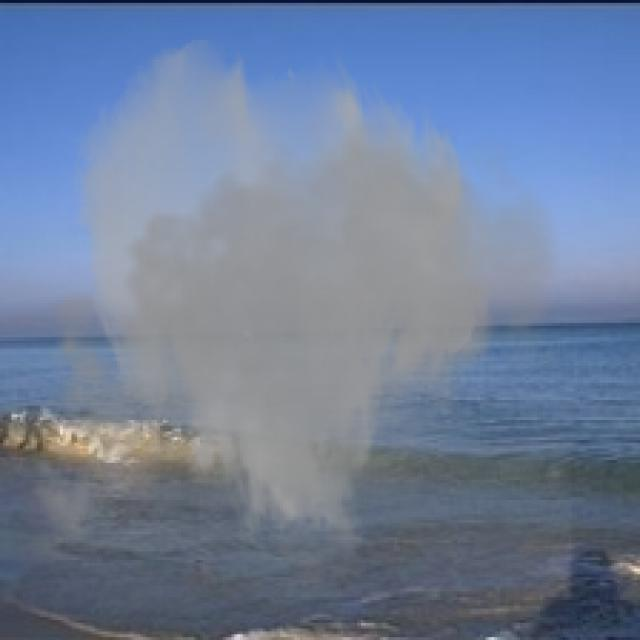smoke: (14, 34, 572, 597)
